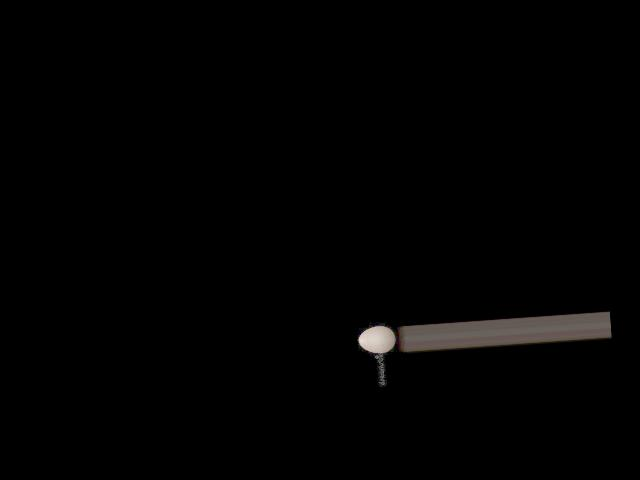egg: (357, 324, 396, 354)
